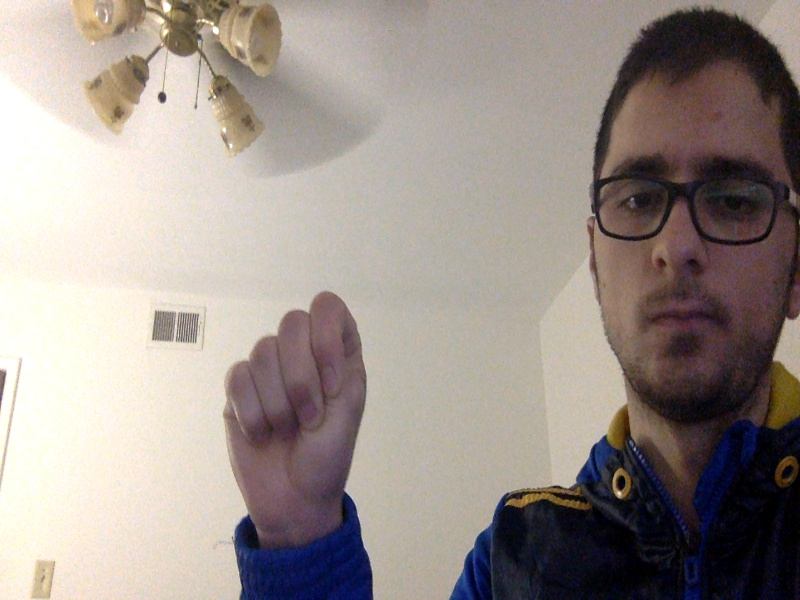0-hand: (223, 293, 369, 529)
